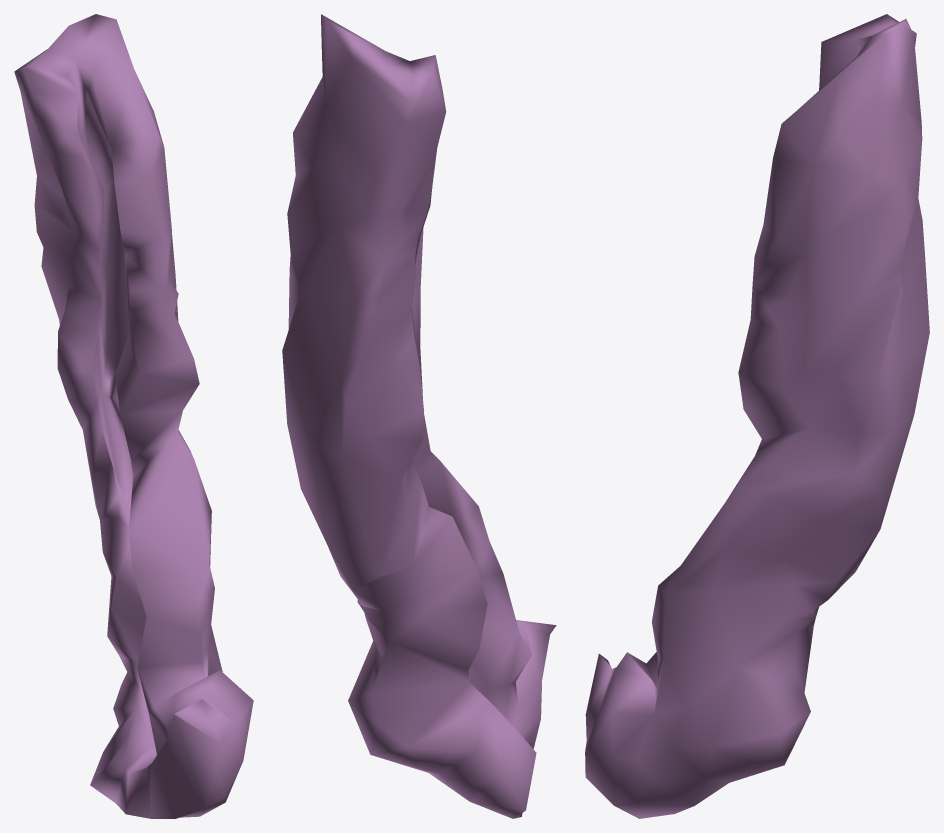
The picture shows the model from 3 angles, left to right: view 1: azimuth 30°, elevation 25°; view 2: azimuth 150°, elevation 25°; view 3: azimuth 270°, elevation 25°; orthographic projection. The views are drawn at different scales.
Visible parts, largest first — view 1: 右侧直回; view 2: 右侧直回; view 3: 右侧直回.
Part boxes in pixels (<box>): 右侧直回: <box>14,14,253,818</box>; 右侧直回: <box>282,14,556,818</box>; 右侧直回: <box>585,14,929,818</box>.
Size of the model in its own units: 0.0177 by 0.094 by 0.0365.
